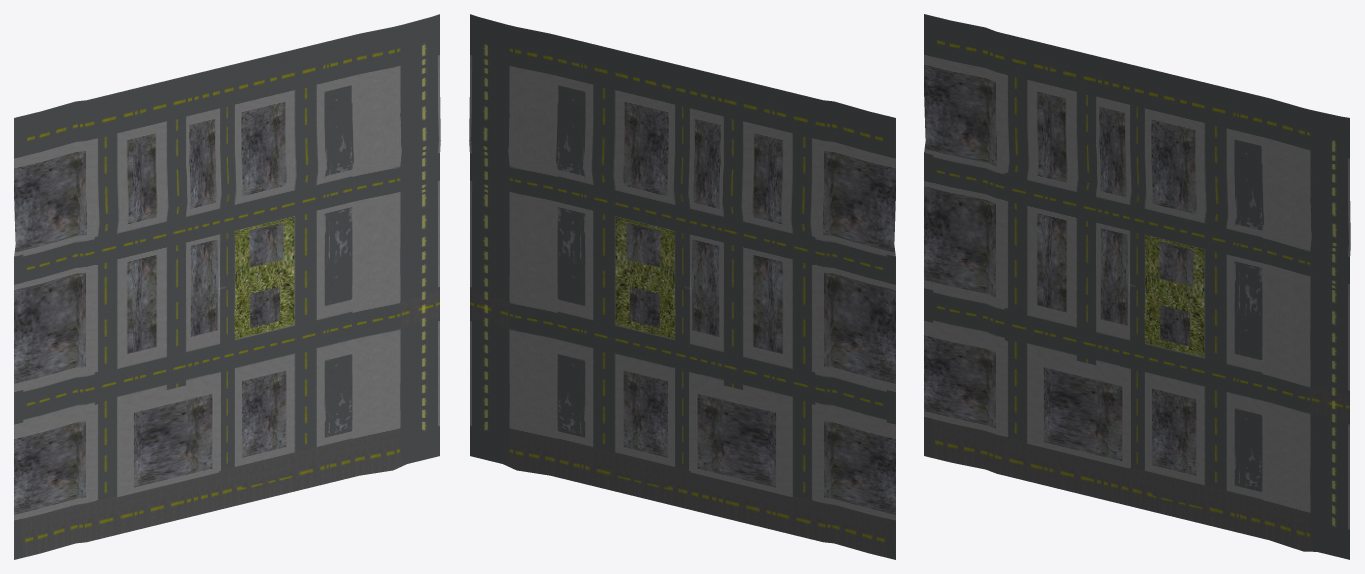
Rendered from deadmap_wtf.obj.
The picture shows the model from 3 angles, left to right: view 1: azimuth 30°, elevation 25°; view 2: azimuth 150°, elevation 25°; view 3: azimuth 330°, elevation 25°; orthographic projection.
Parts seen in each view (by area): view 1: group2; view 2: group2; view 3: group2.
Part boxes in pixels (x1,y1,x2,y2): group2: (14, 14, 440, 559); group2: (469, 14, 895, 559); group2: (924, 14, 1350, 559).
Size of the model in its own units: 660 by 660 by 1.4e-05.
